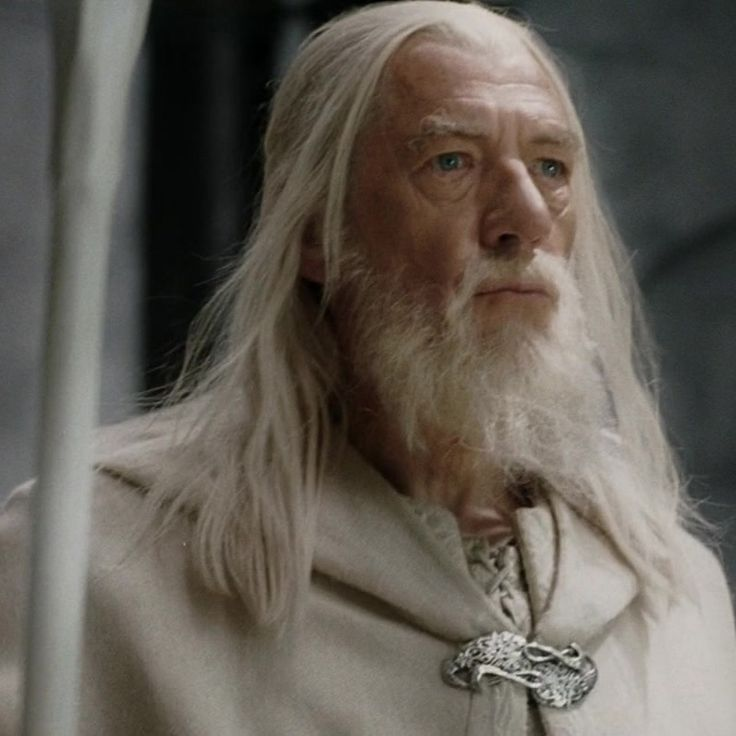gandalf gray: (12, 17, 713, 724)
